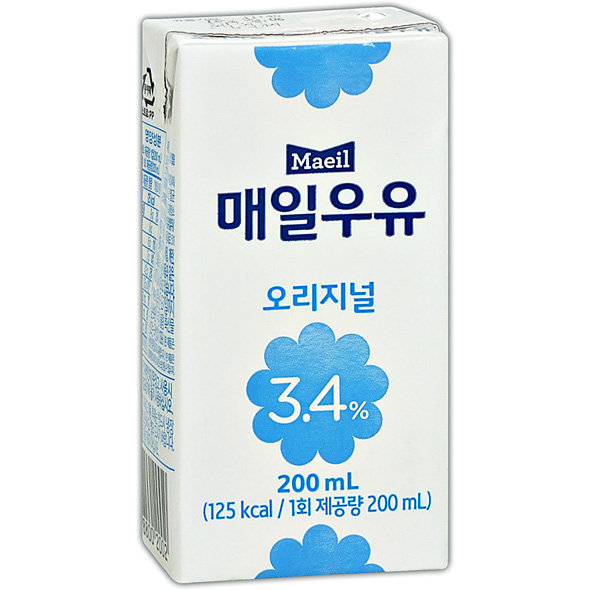milk: (138, 9, 451, 584)
